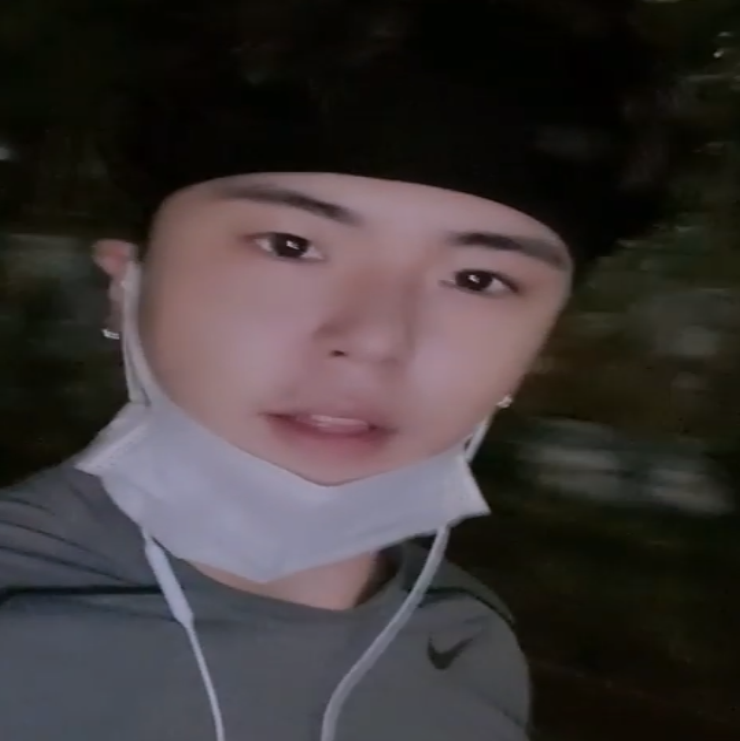mask_weared_incorrect: (86, 98, 578, 580)
